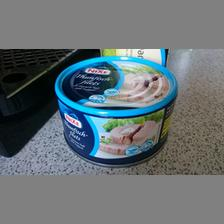Fisch: (50, 54, 177, 166)
